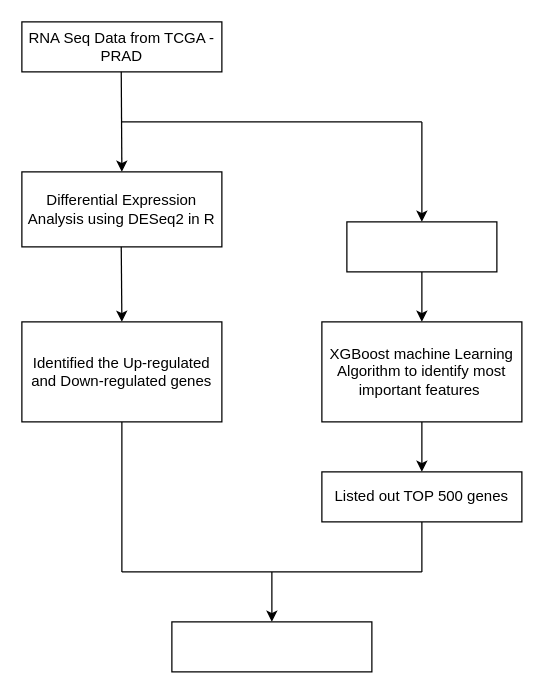
The diagram is 544 pixels wide and 694 high, and some of its shapes have lost their labels. The box of each missing label's shape, as (x1, y1, x2, y2) in pixels:
Data Processing: (346, 221, 497, 272)
Potential Biomarkers: (171, 621, 372, 672)
